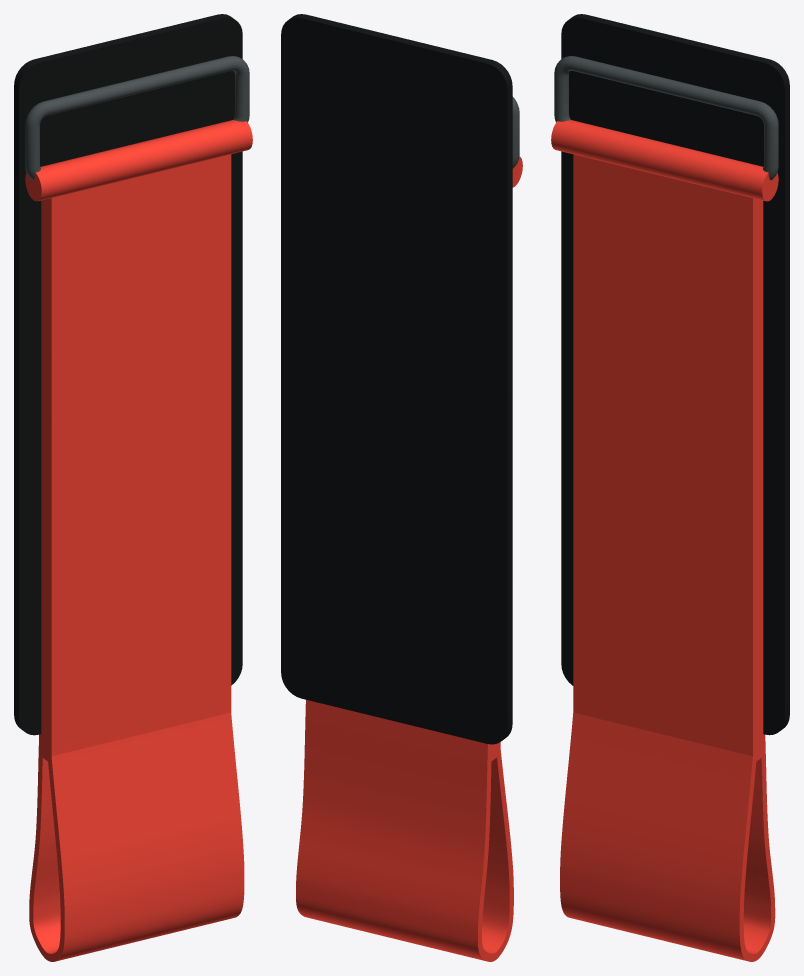
3 views of the same model, side by side, from view 1: azimuth 30°, elevation 25°; view 2: azimuth 150°, elevation 25°; view 3: azimuth 330°, elevation 25° (orthographic).
Parts seen in each view (by area): view 1: red_strip, backing, pin, rounded_loop; view 2: backing, red_strip; view 3: red_strip, backing, pin, rounded_loop.
Boxes of the visible parts, box(x1,y1,x2,y2) form: red_strip: box(29, 154, 244, 961); backing: box(14, 14, 242, 735); pin: box(25, 120, 252, 201); rounded_loop: box(25, 56, 249, 180); backing: box(281, 14, 512, 744); red_strip: box(296, 700, 513, 961); red_strip: box(560, 154, 775, 961); backing: box(561, 14, 789, 735); pin: box(551, 120, 778, 201); rounded_loop: box(554, 56, 778, 180).
Size of the model in its own units: 0.0784 by 0.2993 by 0.0216.
